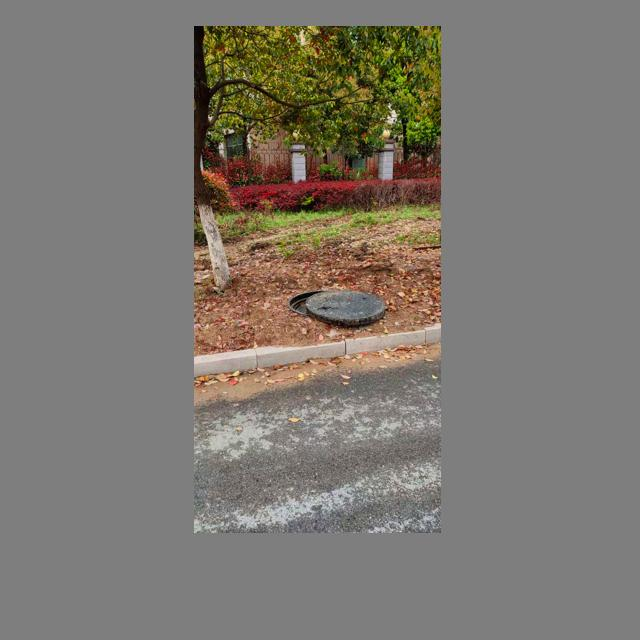uncovered: (281, 275, 389, 327)
